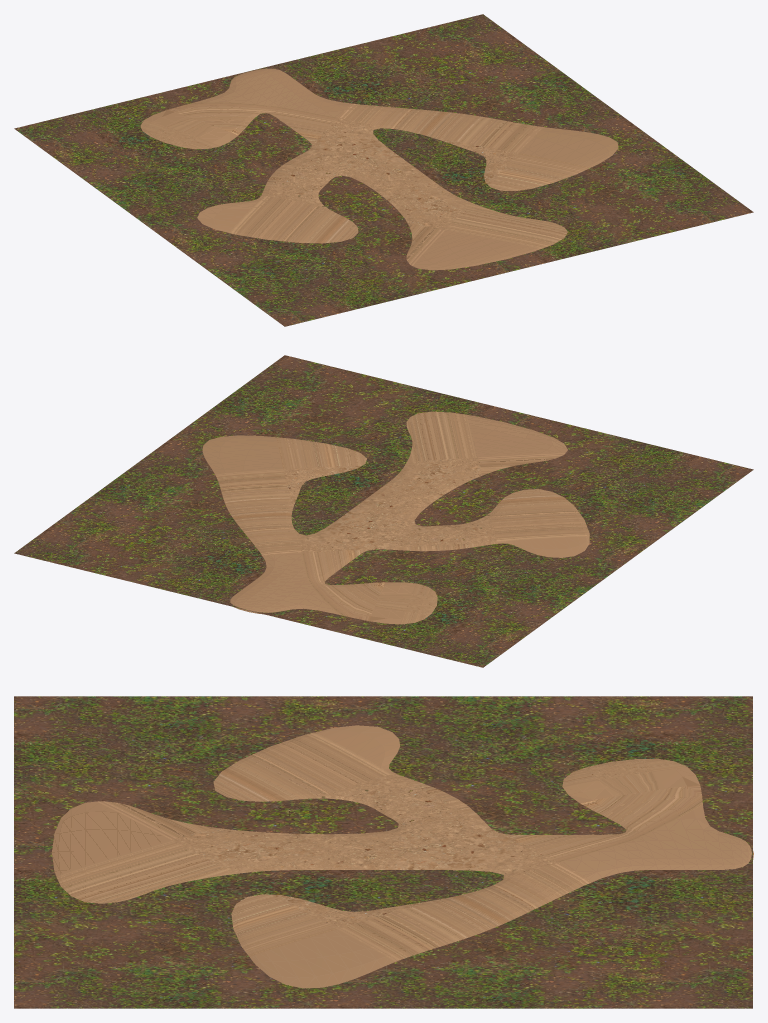
Rendered from groundpinkroom.fbx.
3 views of the same model, one above another, from view 1: azimuth 30°, elevation 25°; view 2: azimuth 150°, elevation 25°; view 3: azimuth 270°, elevation 25° (orthographic). The views are drawn at different scales.
Visible parts, largest first — view 1: Plane, Plane.001; view 2: Plane, Plane.001; view 3: Plane, Plane.001.
Part boxes in pixels (x1,y1,x2,y2): Plane: (14, 14, 753, 326); Plane.001: (140, 68, 618, 270); Plane: (14, 355, 753, 667); Plane.001: (202, 411, 589, 624); Plane: (14, 696, 752, 1008); Plane.001: (51, 725, 753, 988).
Bounding box in the file's own units: 1000 × 8.71 × 1001.
